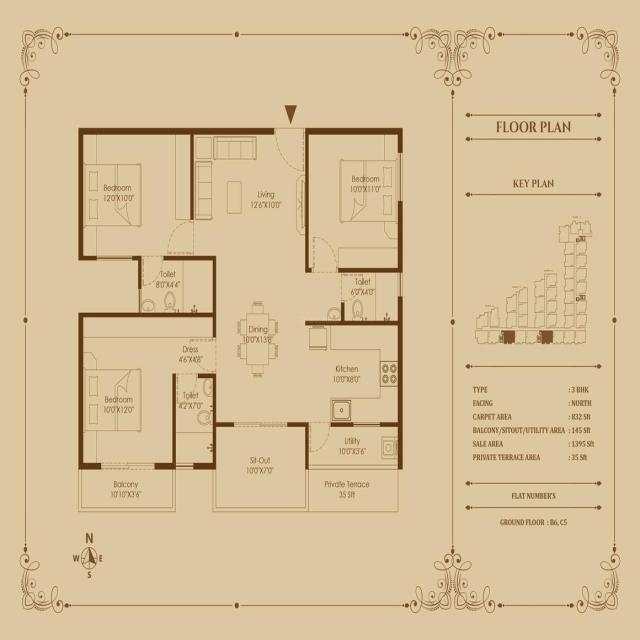Balcony-Sitout: (77, 470, 175, 511)
Bedroom: (79, 314, 175, 467), (80, 132, 190, 257), (307, 127, 401, 269)
Dining: (236, 300, 279, 380)
Dress: (176, 317, 214, 371)
Enterance-Foyer: (273, 100, 307, 175)
Kitchen: (304, 326, 401, 426)
Living: (193, 127, 307, 255)
Toilet: (138, 258, 214, 315), (175, 375, 215, 466), (341, 269, 401, 322)
Utility: (307, 425, 400, 470)
